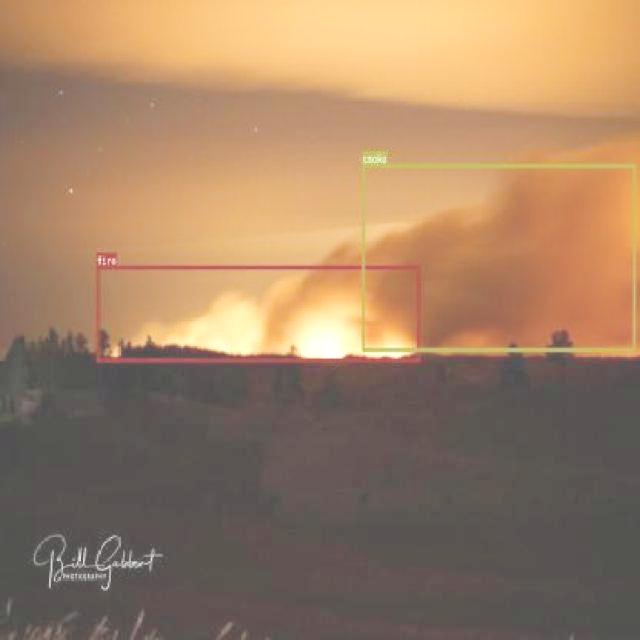fire: (96, 264, 419, 362)
smoke: (362, 163, 636, 351)
